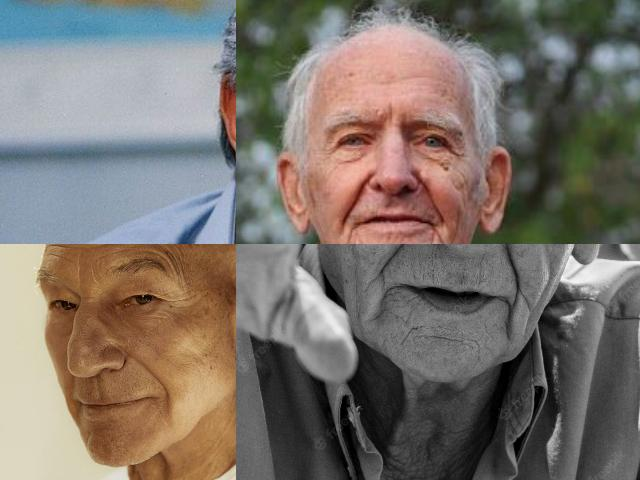chin: (428, 328, 480, 350), (398, 319, 419, 351)
crows_feet: (161, 290, 197, 316), (447, 146, 467, 164), (320, 139, 336, 159)
forehead: (167, 256, 189, 290), (44, 244, 69, 265)
frown_line: (72, 262, 86, 289), (384, 100, 396, 126)
gummy_smile: (128, 350, 170, 386), (342, 170, 366, 222), (498, 244, 524, 290), (418, 175, 440, 223), (382, 244, 421, 270)
sad_smile: (372, 285, 392, 321), (502, 303, 516, 341), (425, 225, 444, 244), (341, 227, 355, 244)
